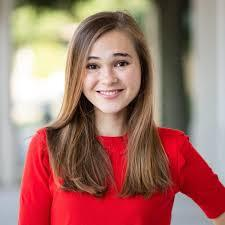person: (61, 3, 168, 124)
